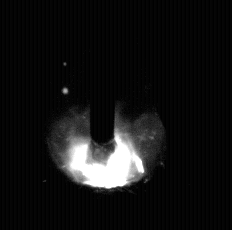arame: (91, 0, 116, 165)
poca: (50, 0, 160, 230)
